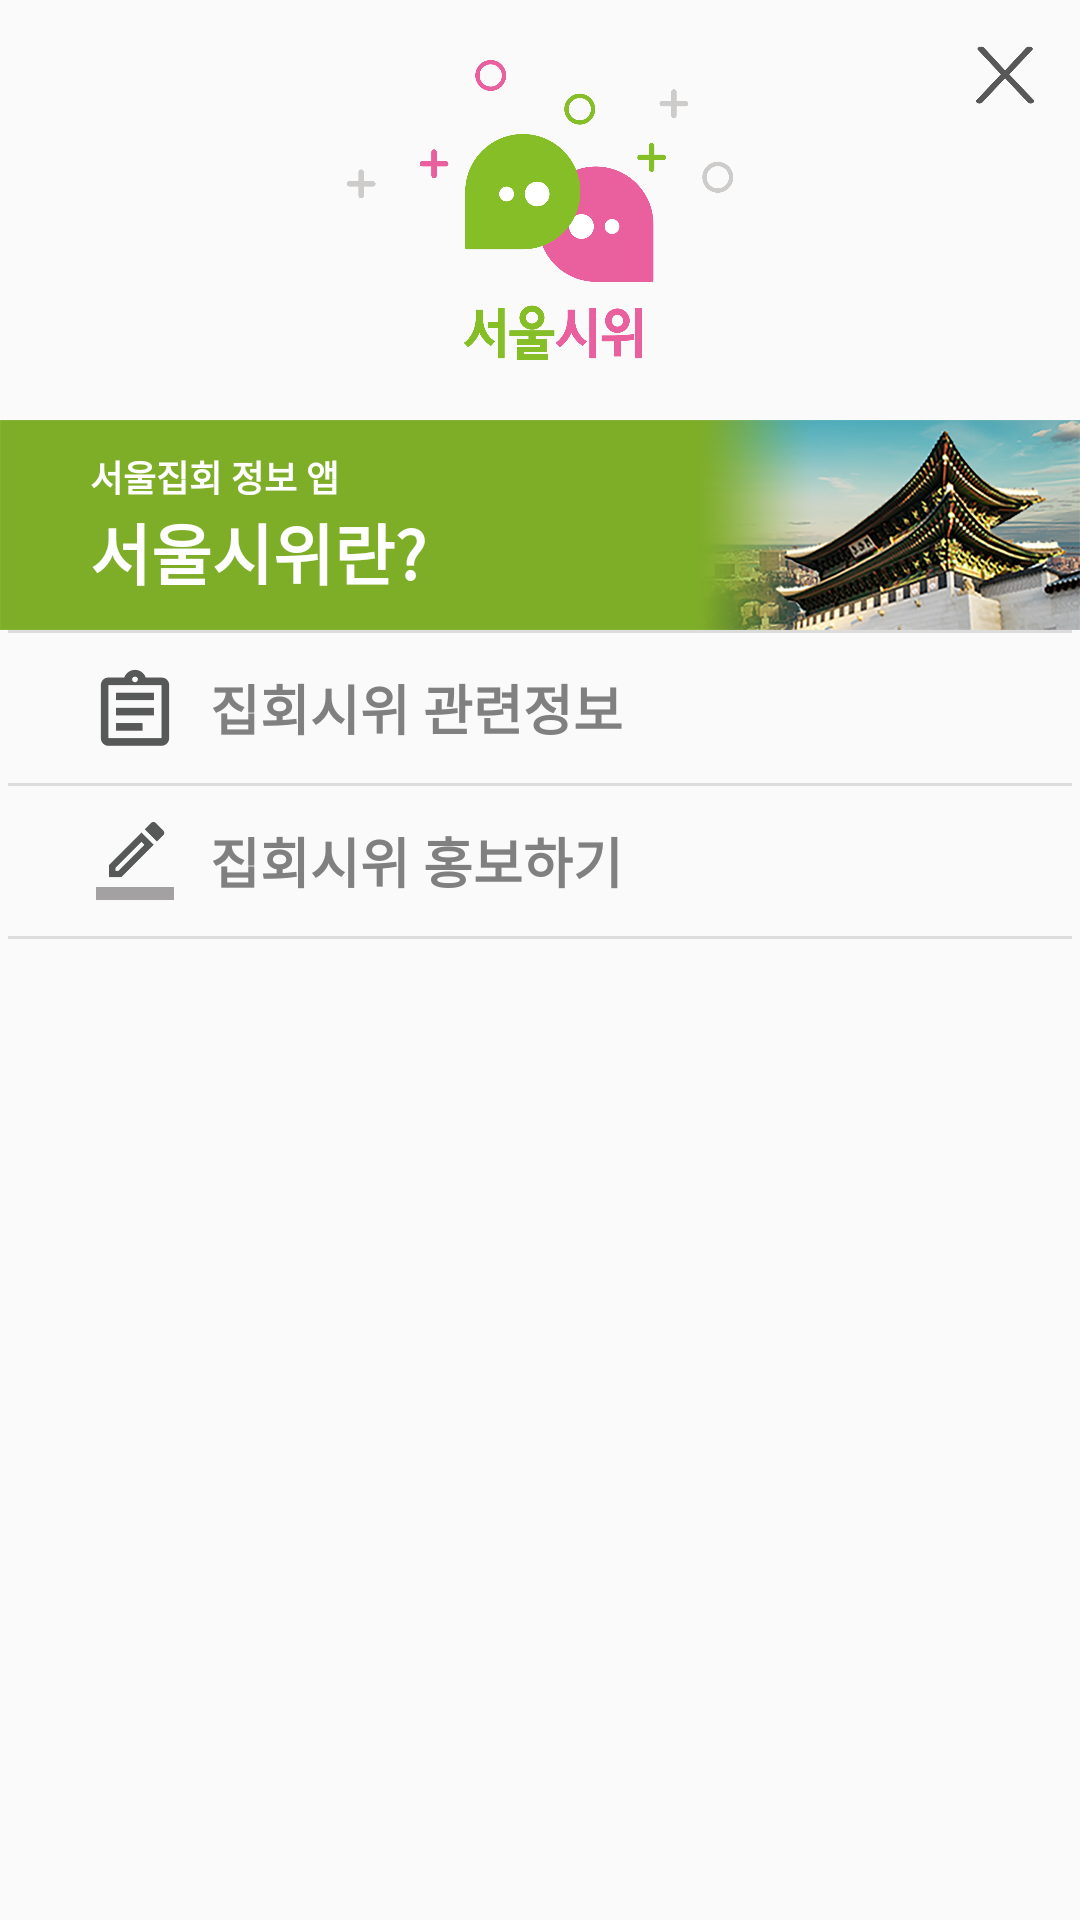

Where icons sit on this 1080px x 1920px app screen, as (x1, y1, x2, y2):
noti: (100, 670, 169, 746)
write: (96, 822, 174, 900)
